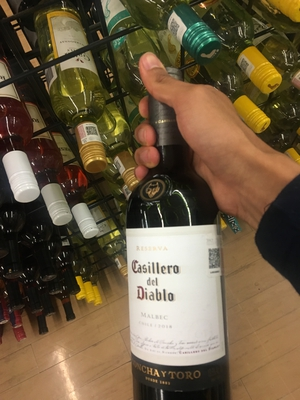casillero del diablo malbec: (110, 82, 253, 400)
